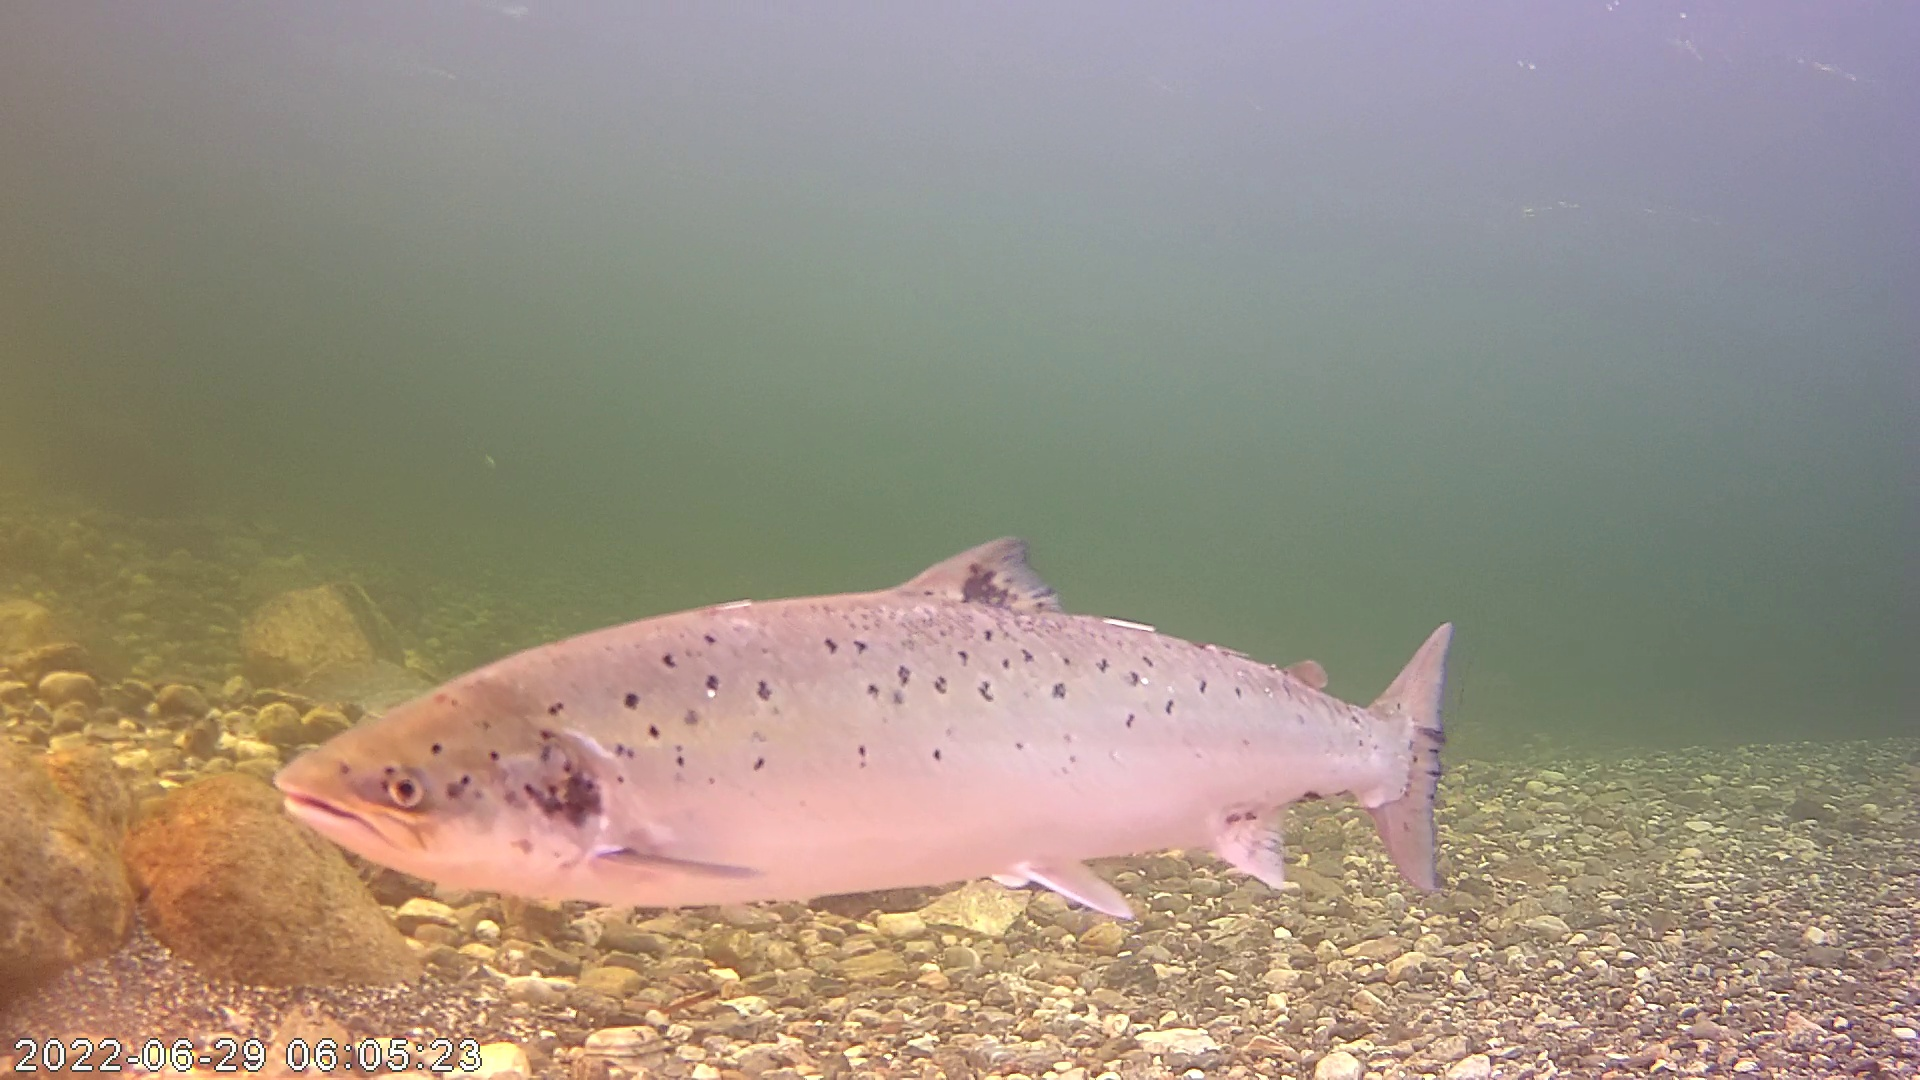salmon: (280, 462, 1455, 986)
